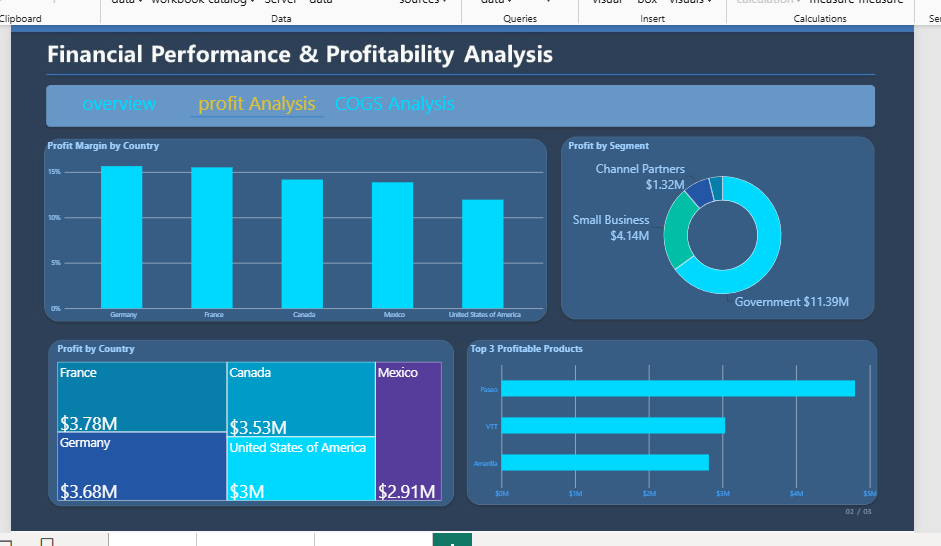

Layout of this report page (visuals, bound fields, positions):
{"tool":"powerbi","page":{"name":"profit Analysis","canvas":[1920,1080],"ordinal":1},"visuals":[{"type":"donutChart","title":" Profit by Segment","fields":{"Category":["Segment.Segment"],"Y":["calculated.Total Profit"]},"box":[1169.3,227.5,686.7,397.6],"z":0},{"type":"treemap","title":" Profit by Country","fields":{"Group":["Country.Country"],"Values":["calculated.Total Profit"]},"box":[961,646,883.2,366.9],"z":1000},{"type":"clusteredColumnChart","title":"Profit Margin  by Country","fields":{"Category":["Country.Country"],"Y":["calculated.Profit Margin %"]},"box":[61.7,227.5,1086.4,418.8],"z":2000},{"type":"clusteredBarChart","title":"Top 3 Profitable Products","fields":{"Category":["Product.Product"],"Y":["calculated.Total Profit"]},"box":[76.5,663.3,863.1,367.8],"z":3000},{"type":"pageNavigator","box":[87.2,131.8,873.8,65.9],"z":4000}]}

Visuals, with their boxes on the page's 1920x1080 design canvas (x1, y1, x2, y2). These are canvas units, not pixel positions in the 941x546 screenshot, which may show the page scaled, cropped or inside an application window:
" Profit by Segment" donutChart: x1=1169 y1=228 x2=1856 y2=625
" Profit by Country" treemap: x1=961 y1=646 x2=1844 y2=1013
"Profit Margin  by Country" clusteredColumnChart: x1=62 y1=228 x2=1148 y2=646
"Top 3 Profitable Products" clusteredBarChart: x1=76 y1=663 x2=940 y2=1031
pageNavigator: x1=87 y1=132 x2=961 y2=198
